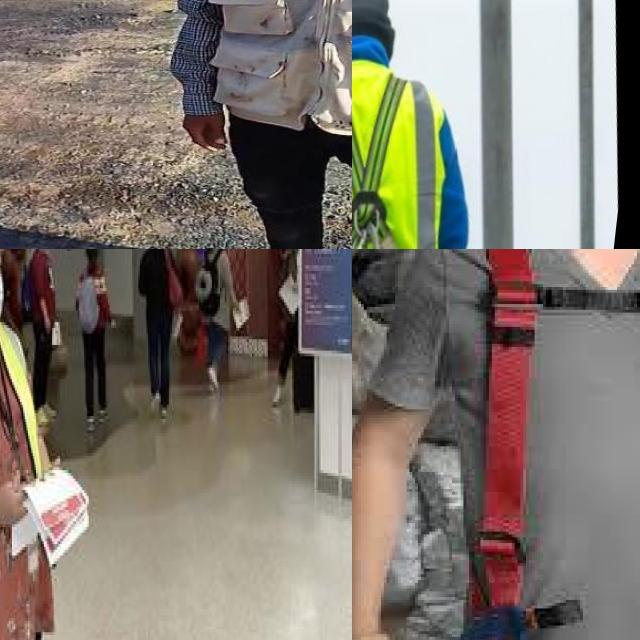Harness: (462, 249, 640, 640), (352, 75, 407, 249)
hand_noglove: (172, 106, 239, 159), (0, 477, 28, 531)
head_nohelmet: (80, 249, 101, 271)
person: (158, 0, 352, 249), (0, 249, 73, 640), (132, 249, 182, 428), (198, 249, 247, 404), (75, 249, 113, 438)
shoes: (38, 396, 60, 425), (145, 383, 161, 412), (270, 382, 284, 413), (207, 365, 222, 393), (94, 402, 112, 424), (157, 398, 170, 426), (85, 412, 96, 437)
vest: (0, 326, 44, 608)
